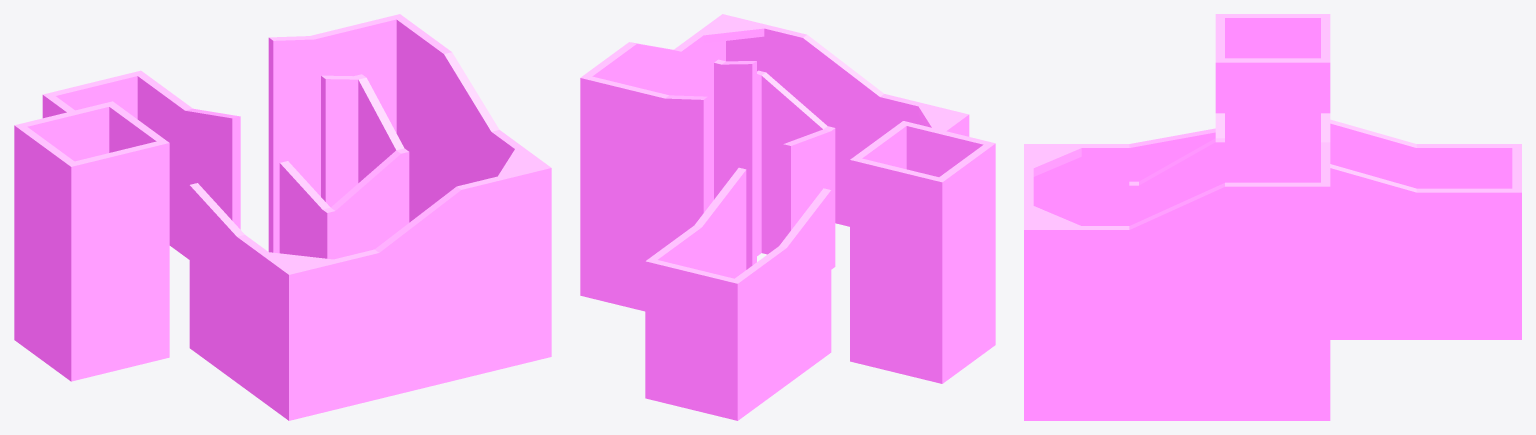
File: Hole 6 Trim.glb
The picture shows the model from 3 angles, left to right: view 1: azimuth 30°, elevation 25°; view 2: azimuth 150°, elevation 25°; view 3: azimuth 270°, elevation 25°; orthographic projection. The views are drawn at different scales.
Parts seen in each view (by area): view 1: Hole 6 Trim; view 2: Hole 6 Trim; view 3: Hole 6 Trim.
Boxes of the visible parts, x1,y1,x2,y2 form: Hole 6 Trim: [14, 14, 551, 420]; Hole 6 Trim: [580, 14, 995, 420]; Hole 6 Trim: [1024, 14, 1521, 420].
Size of what is drawn, in the model's own units: 9.4 by 5.6 by 10.4.
